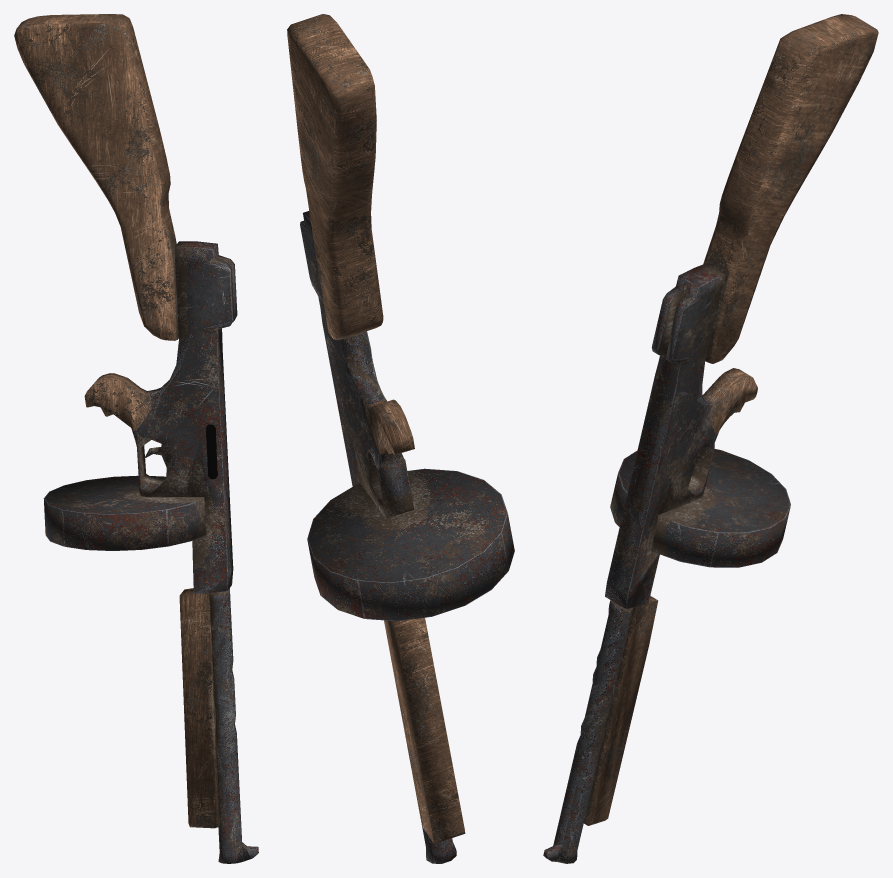
Rendered from Anim_idle_ametralladora_objetos.0028.obj.
3 views of the same model, side by side, from view 1: azimuth 30°, elevation 25°; view 2: azimuth 150°, elevation 25°; view 3: azimuth 270°, elevation 25° (orthographic). The views are drawn at different scales.
Parts seen in each view (by area): view 1: Ametralladora1; view 2: Ametralladora1; view 3: Ametralladora1.
Boxes of the visible parts, x1,y1,x2,y2 form: Ametralladora1: (14,14,258,863); Ametralladora1: (287,14,514,863); Ametralladora1: (543,14,878,863).
Bounding box in the file's own units: 1.36 × 5.86 × 2.18.
